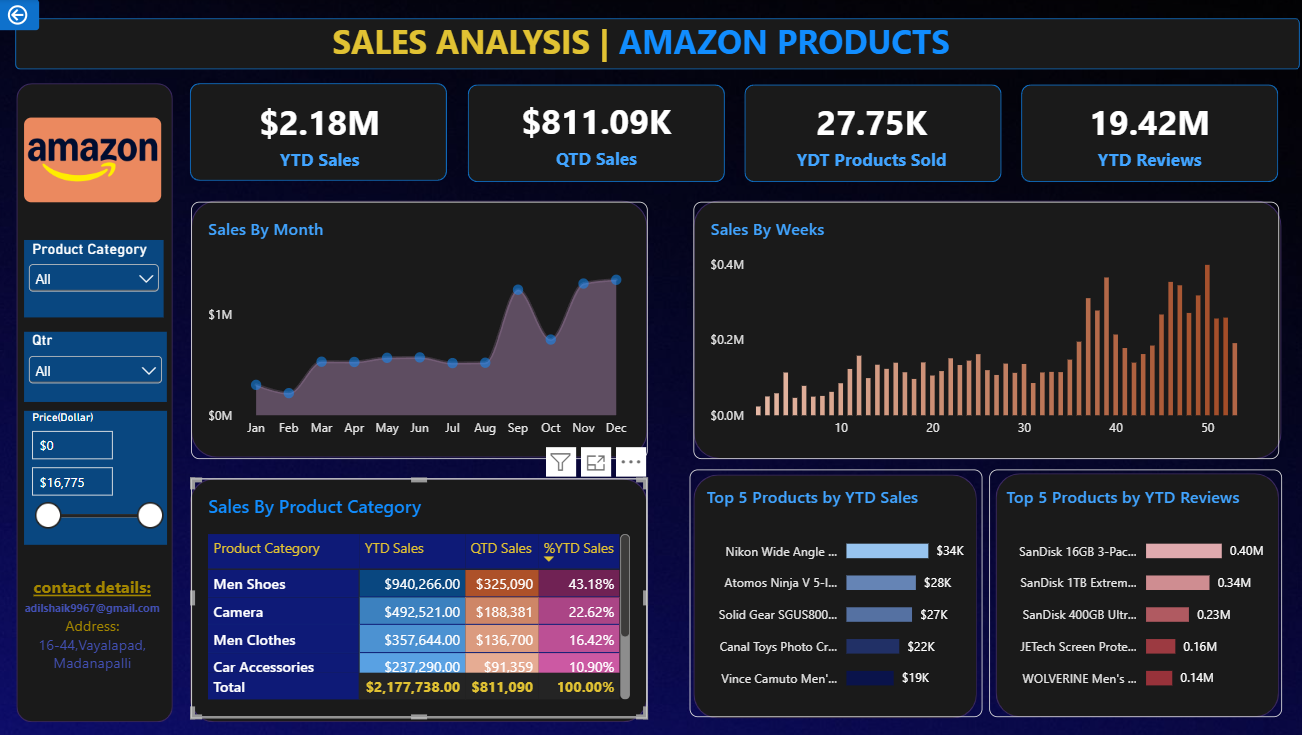

The dashboard page shown, as its layout file describes it:
{"tool":"powerbi","page":{"name":"Page 1","canvas":[1280,720],"ordinal":0},"visuals":[{"type":"shape","box":[19.8,82.2,152,621.3],"z":0},{"type":"shape","box":[458.3,82.7,250,95],"z":1000},{"type":"shape","box":[18.7,18.7,1250,50],"z":2000},{"type":"shape","box":[188.9,82.1,250,95],"z":3000},{"type":"slicer","fields":{"Values":["Amazon_Data.Product Category"]},"box":[26.9,233.8,136,75.1],"z":4000},{"type":"textbox","box":[326.7,18.7,613.3,50.7],"z":5000},{"type":"card","fields":{"Values":["Amazon_Data.YTD Sales"]},"box":[189.5,82.7,250,94.9],"z":6000},{"type":"card","fields":{"Values":["Amazon_Data.QTD Sales"]},"box":[458.7,82.7,250,93.6],"z":7000},{"type":"shape","box":[727.7,82.7,250,95],"z":8000},{"type":"shape","box":[997.1,82.7,250,95],"z":9000},{"type":"card","fields":{"Values":["Amazon_Data.YDT Products Sold"]},"box":[726.6,82.7,250,94.9],"z":10000},{"type":"card","fields":{"Values":["Amazon_Data.YTD Reviews"]},"box":[997.1,82.7,250,94.9],"z":11000},{"type":"shape","box":[189.7,196.2,443.6,250],"z":12000},{"type":"areaChart","title":"Sales By Month","fields":{"Category":["Date Table.Month Name"],"Y":["Sum(Amazon_Data.Price(Dollar))"]},"box":[189.7,197.4,443.6,250],"z":13000},{"type":"shape","box":[678.2,196.2,571.8,251.3],"z":14000},{"type":"columnChart","title":"Sales By Weeks","fields":{"Category":["Date Table.Week"],"Y":["Sum(Amazon_Data.Price(Dollar))"]},"box":[678.2,197.4,569.2,250],"z":15000},{"type":"shape","box":[188.5,466.7,444.9,237.2],"z":16000},{"type":"pivotTable","title":"Sales By Product Category","fields":{"Rows":["Amazon_Data.Product Category"],"Values":["Amazon_Data.YTD Sales1","Amazon_Data.QTD Sales","Amazon_Data.YTD Sales"]},"box":[189.7,466.7,443.6,232.1],"z":17000},{"type":"shape","box":[678.2,462.8,275.6,237.2],"z":18000},{"type":"shape","box":[971.8,461.5,275.6,237.2],"z":19000},{"type":"clusteredBarChart","title":"Top 5 Products by YTD Sales","fields":{"Category":["Amazon_Data.Product Description"],"Y":["Amazon_Data.YTD Sales"]},"box":[674.4,457.7,284.6,241],"z":20000},{"type":"clusteredBarChart","title":"Top 5 Products by YTD Reviews","fields":{"Category":["Amazon_Data.Product Description"],"Y":["Amazon_Data.YTD Reviews"]},"box":[965.4,457.7,284.6,241],"z":21000},{"type":"actionButton","box":[0,0,42.3,30.8],"z":22000},{"type":"slicer","fields":{"Values":["Date Table.Qtr"]},"box":[26.9,323,138.8,68],"z":23000},{"type":"image","box":[26.9,114.8,133.2,82.2],"z":24000},{"type":"slicer","fields":{"Values":["Amazon_Data.Price(Dollar)"]},"box":[27.3,400.4,138.8,130.1],"z":24001},{"type":"textbox","box":[27.3,560.3,132.6,126.4],"z":24002}]}

Visuals, with their boxes in screenshot pixels (x1, y1, x2, y2), scaled from the page's 1280x720 canvas onto the 1302x735 screenshot:
shape: locate(20, 84, 175, 718)
shape: locate(466, 84, 720, 181)
shape: locate(19, 19, 1291, 70)
shape: locate(192, 84, 446, 181)
slicer - Amazon_Data.Product Category: locate(27, 239, 166, 315)
textbox: locate(332, 19, 956, 71)
card - Amazon_Data.YTD Sales: locate(193, 84, 447, 181)
card - Amazon_Data.QTD Sales: locate(467, 84, 721, 180)
shape: locate(740, 84, 995, 181)
shape: locate(1014, 84, 1269, 181)
card - Amazon_Data.YDT Products Sold: locate(739, 84, 993, 181)
card - Amazon_Data.YTD Reviews: locate(1014, 84, 1269, 181)
shape: locate(193, 200, 644, 455)
"Sales By Month" areaChart: locate(193, 202, 644, 457)
shape: locate(690, 200, 1271, 457)
"Sales By Weeks" columnChart: locate(690, 202, 1269, 457)
shape: locate(192, 476, 644, 719)
"Sales By Product Category" pivotTable: locate(193, 476, 644, 713)
shape: locate(690, 472, 970, 715)
shape: locate(989, 471, 1269, 713)
"Top 5 Products by YTD Sales" clusteredBarChart: locate(686, 467, 975, 713)
"Top 5 Products by YTD Reviews" clusteredBarChart: locate(982, 467, 1271, 713)
actionButton: locate(0, 0, 43, 31)
slicer - Date Table.Qtr: locate(27, 330, 169, 399)
image: locate(27, 117, 163, 201)
slicer - Amazon_Data.Price(Dollar): locate(28, 409, 169, 542)
textbox: locate(28, 572, 163, 701)
